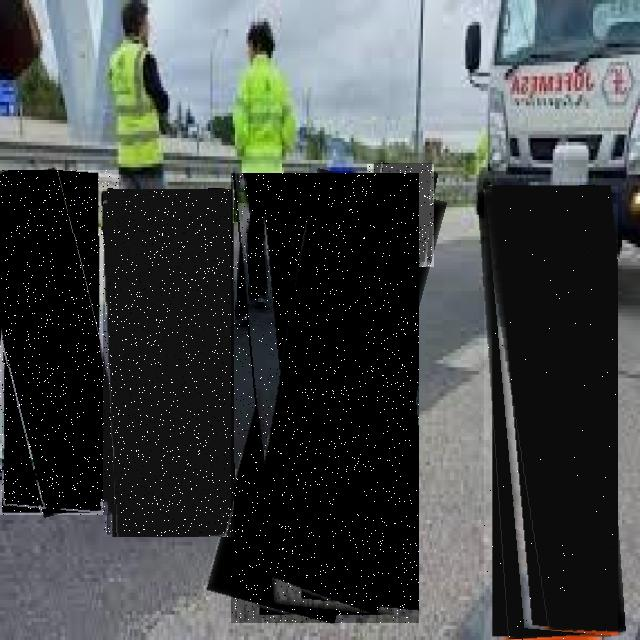Traffic-cone: (231, 173, 419, 623), (484, 186, 618, 640), (103, 189, 234, 537), (0, 170, 119, 515), (367, 164, 434, 267)
